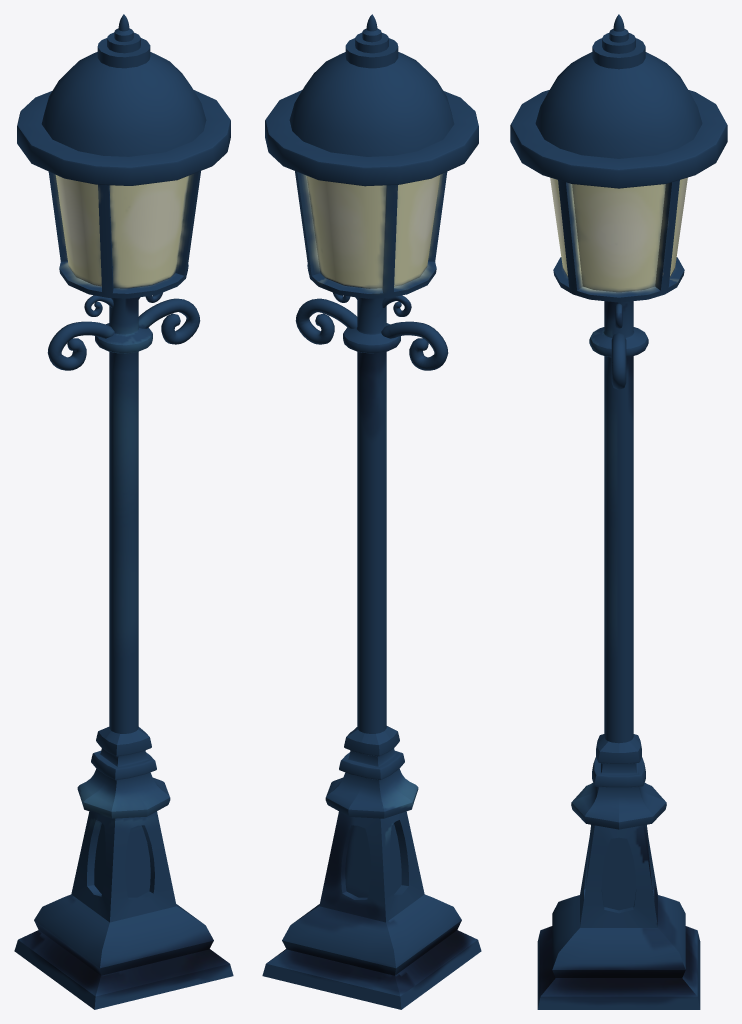
Rendered from streetlight_model.glb.
3 renders of one model, left to right at view 1: azimuth 30°, elevation 25°; view 2: azimuth 150°, elevation 25°; view 3: azimuth 270°, elevation 25°, orthographic.
Parts seen in each view (by area): view 1: Plane.018; view 2: Plane.018; view 3: Plane.018.
Part boxes in pixels (<box>): Plane.018: <box>14,14,233,1009</box>; Plane.018: <box>262,14,481,1009</box>; Plane.018: <box>510,14,727,1009</box>.
Size of the model in its own units: 5.74 by 28 by 5.74.
1 material, 1 textured.
